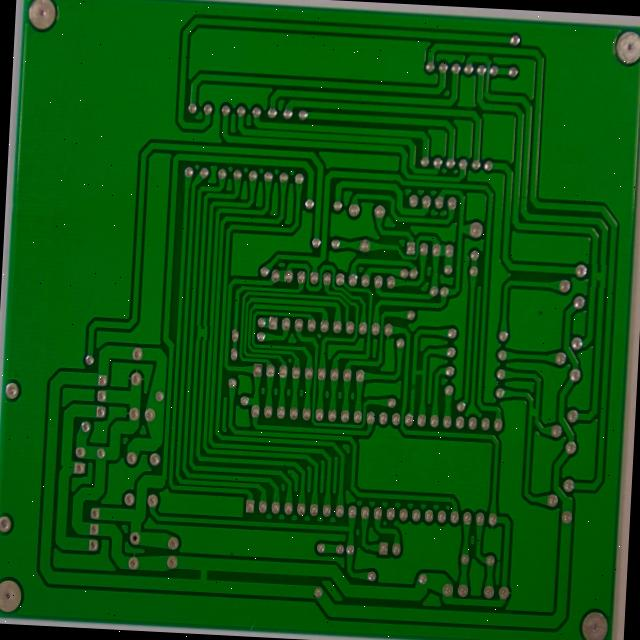short: (192, 563, 220, 588), (588, 264, 608, 288), (411, 365, 429, 382), (526, 401, 541, 421), (195, 325, 210, 341)
